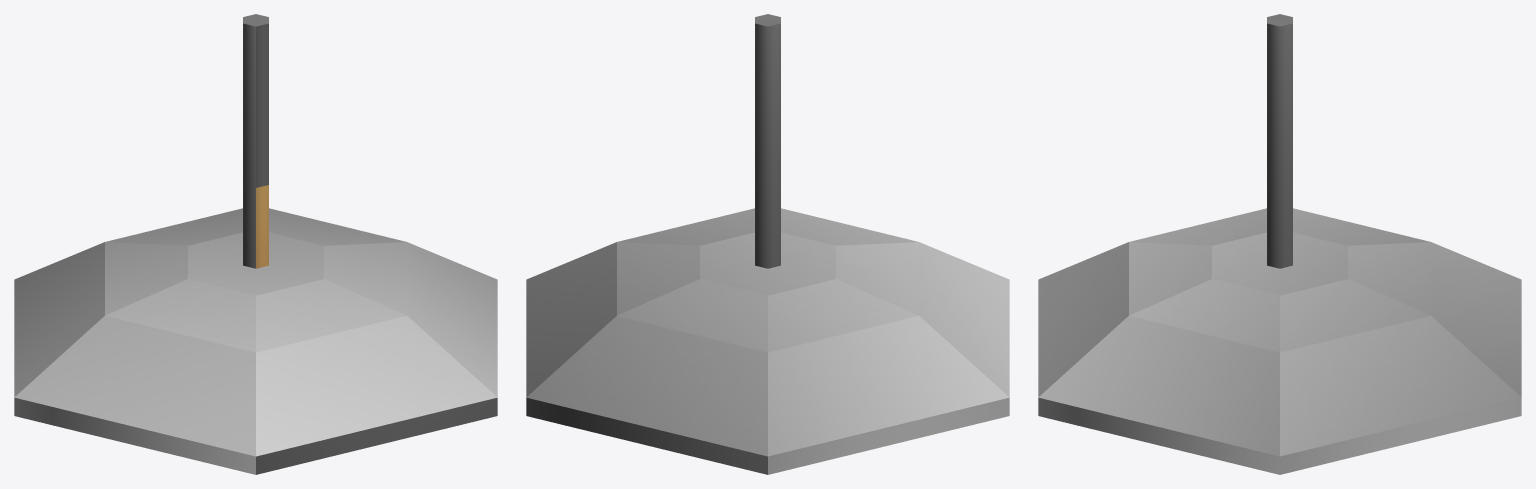
File: Deck lamp.fbx
3 views of the same model, side by side, from view 1: azimuth 30°, elevation 25°; view 2: azimuth 150°, elevation 25°; view 3: azimuth 270°, elevation 25° (orthographic).
Visible parts, largest first — view 1: Cylinder001; view 2: Cylinder001; view 3: Cylinder001.
Part boxes in pixels (box(x1,y1,x2,y2)): Cylinder001: box(14, 14, 497, 474); Cylinder001: box(526, 14, 1009, 474); Cylinder001: box(1038, 14, 1521, 474).
Bounding box in the file's own units: 1.63 × 1.4 × 1.41.
